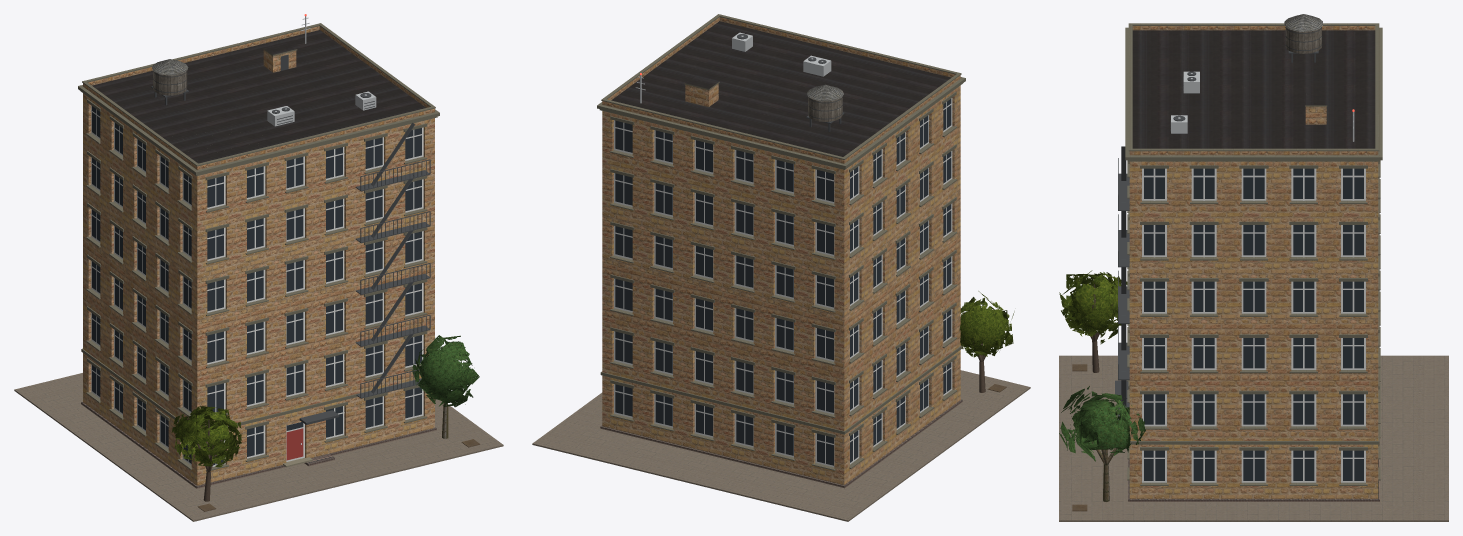
File: walkup_yellow.glb
3 views of the same model, side by side, from view 1: azimuth 30°, elevation 25°; view 2: azimuth 150°, elevation 25°; view 3: azimuth 270°, elevation 25° (orthographic). The views are drawn at different scales.
Parts seen in each view (by area): view 1: walkup_yellow_body, walkup_yellow_foliage; view 2: walkup_yellow_body, walkup_yellow_foliage; view 3: walkup_yellow_body, walkup_yellow_foliage.
Boxes of the visible parts, <box> form: walkup_yellow_body: <box>14,14,503,521</box>; walkup_yellow_foliage: <box>171,335,479,467</box>; walkup_yellow_body: <box>532,14,1030,521</box>; walkup_yellow_foliage: <box>959,291,1014,357</box>; walkup_yellow_body: <box>1059,14,1448,521</box>; walkup_yellow_foliage: <box>1059,270,1145,461</box>.
Size of the model in its own units: 0.94 by 1.04 by 0.94.
Materials: 21 (13 with a texture image).
